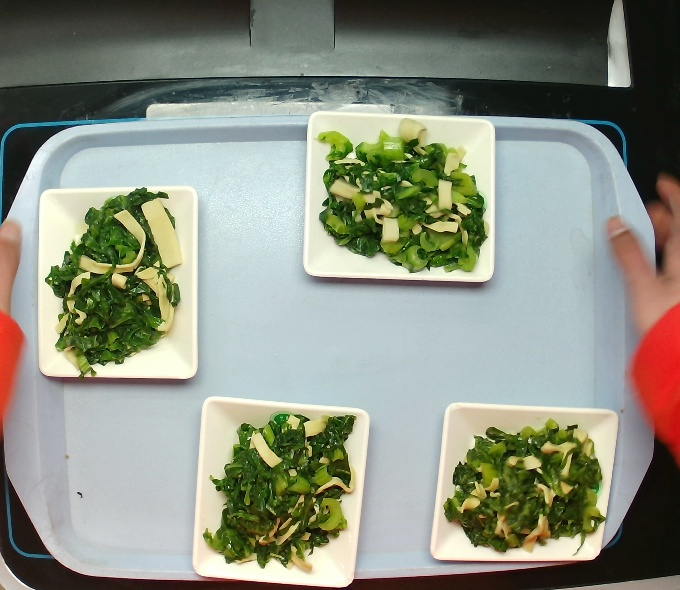wcq-QingCaiChaoQianZhang: (316, 121, 484, 277), (445, 410, 611, 560), (49, 191, 178, 375), (211, 415, 350, 565)
